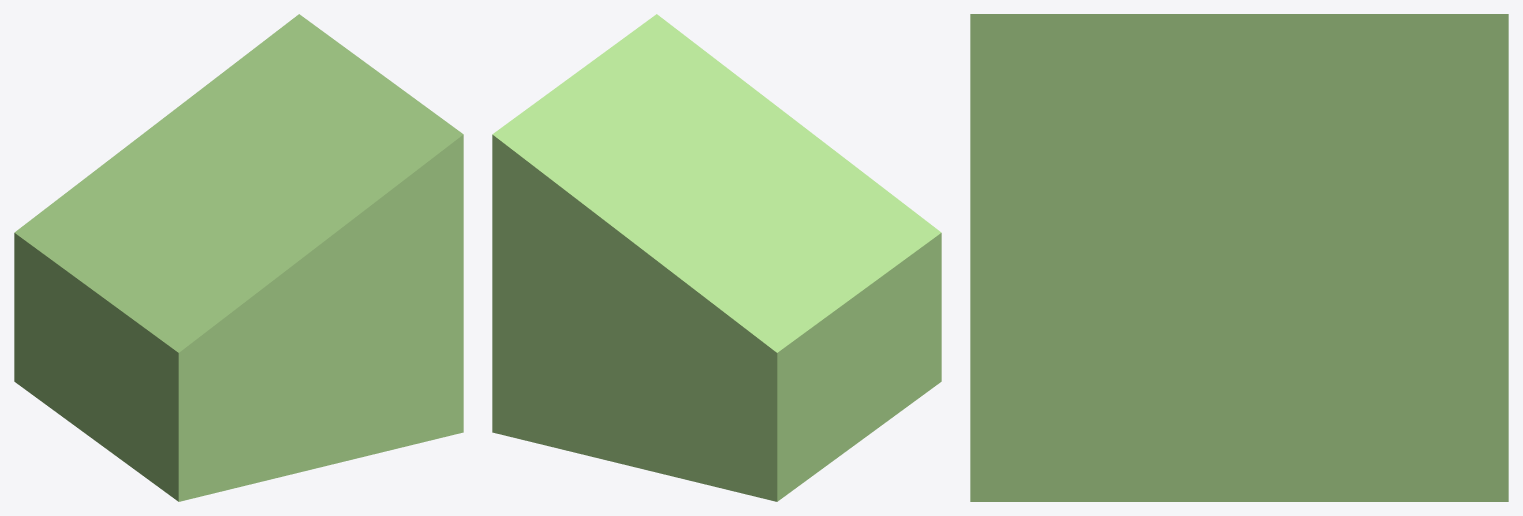
The model's file is TestUpperUphill.fbx.
3 renders of one model, left to right at view 1: azimuth 30°, elevation 25°; view 2: azimuth 150°, elevation 25°; view 3: azimuth 270°, elevation 25°, orthographic. The views are drawn at different scales.
Parts seen in each view (by area): view 1: pCube2; view 2: pCube2; view 3: pCube2.
Part boxes in pixels (x1,y1,x2,y2): pCube2: (14, 14, 463, 501); pCube2: (492, 14, 941, 501); pCube2: (970, 14, 1508, 501).
Size of the model in its own units: 1 by 1 by 1.
